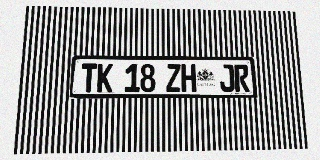1: (124, 64, 140, 92)
8: (140, 64, 155, 92)
H: (181, 64, 196, 92)
J: (219, 64, 235, 92)
K: (97, 64, 113, 92)
R: (234, 64, 250, 92)
T: (81, 63, 97, 92)
Z: (166, 64, 181, 92)
